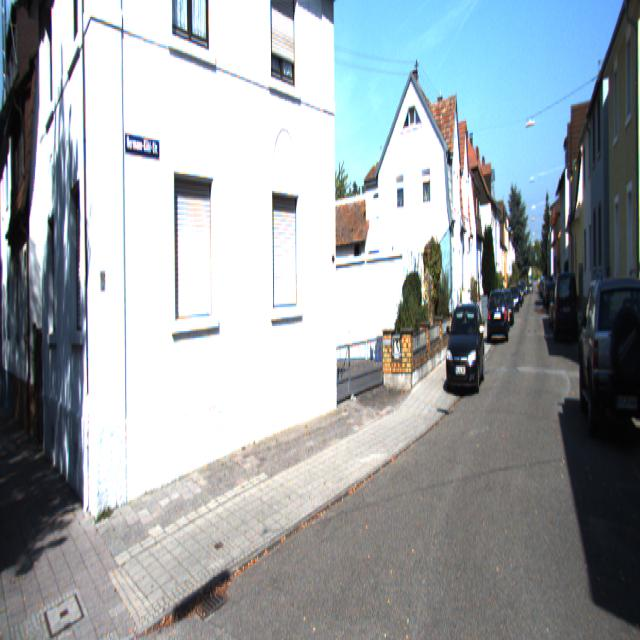Car: (576, 265, 640, 450), (445, 297, 483, 391), (552, 267, 579, 341), (488, 287, 508, 343)
